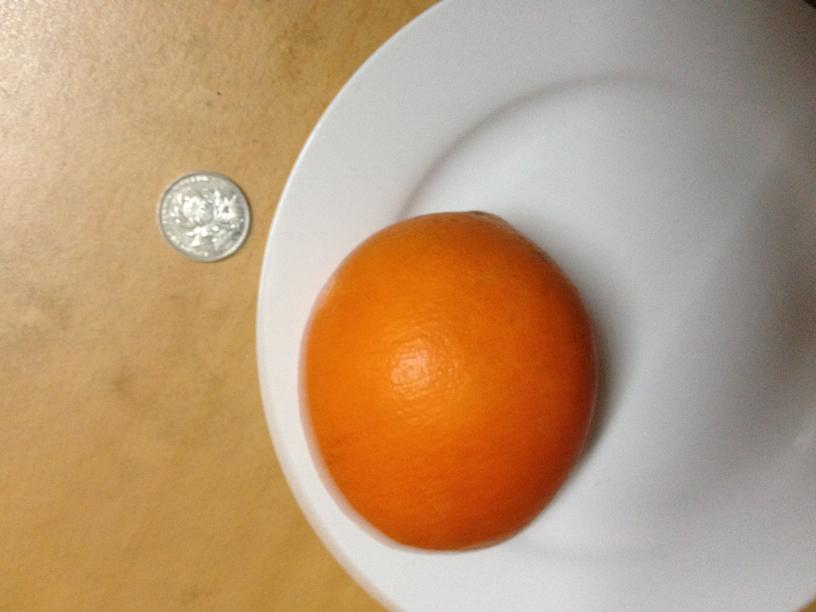coin: (158, 172, 251, 260)
orange: (299, 202, 596, 551)
